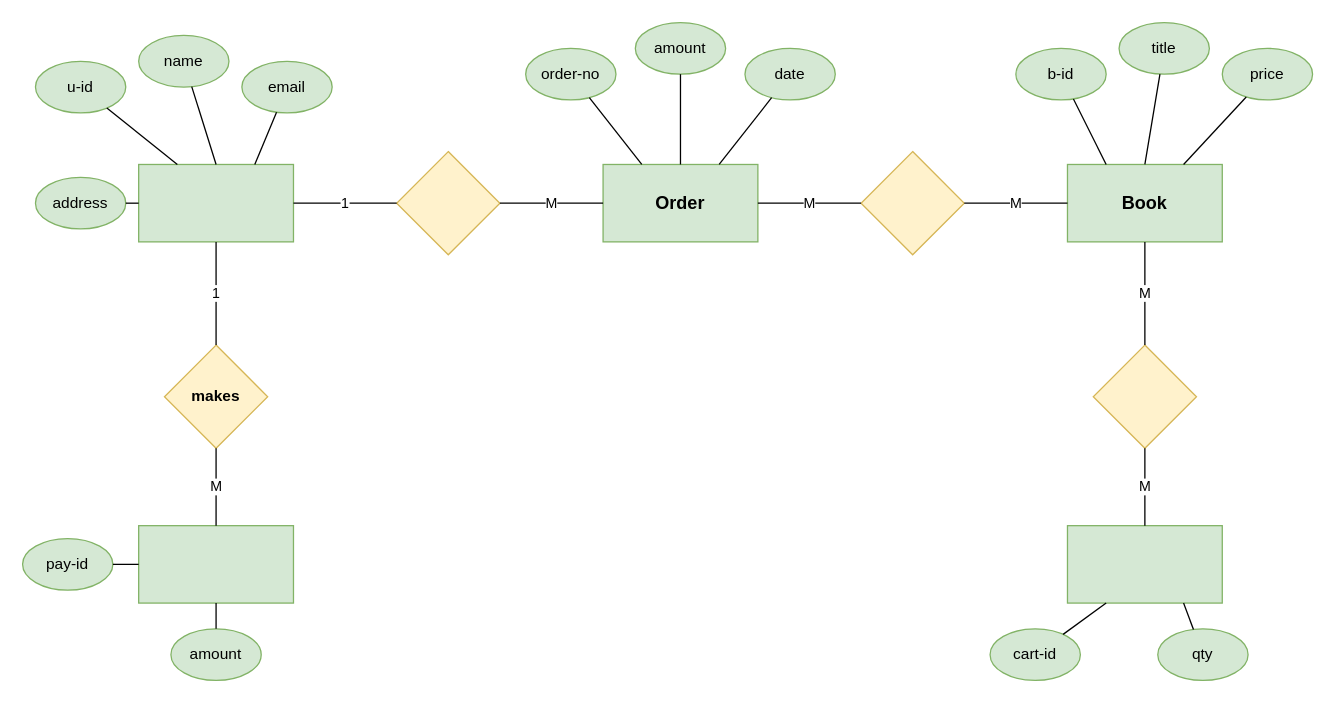
Image size: 1335x703. Some labels were removed from this diagram. The box of each missing label's shape, as (x1, y1, x2, y2) in pixels:
added to: (1092, 344, 1196, 448)
Cart: (1066, 524, 1222, 603)
contains: (860, 150, 964, 255)
Customer: (137, 163, 293, 242)
Payment: (137, 524, 293, 603)
places: (395, 150, 500, 255)
